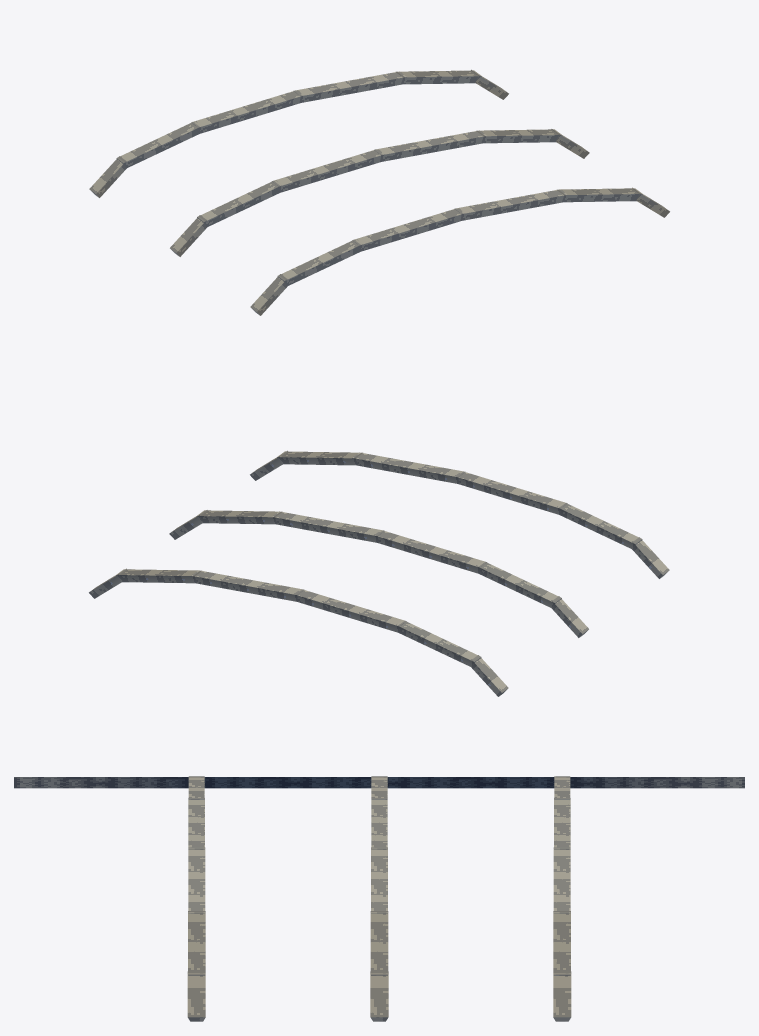
The model's file is cst.ceiling__vault.glb.
3 renders of one model, top to bottom at view 1: azimuth 30°, elevation 25°; view 2: azimuth 150°, elevation 25°; view 3: azimuth 270°, elevation 25°, orthographic. The views are drawn at different scales.
Parts seen in each view (by area): view 1: kit_ribs; view 2: kit_ribs; view 3: kit_ribs, kit_shell_ceiling.
Boxes of the visible parts, bbox=[...] form: kit_ribs: bbox=[89, 69, 669, 315]; kit_ribs: bbox=[89, 450, 669, 696]; kit_ribs: bbox=[187, 776, 571, 1021]; kit_shell_ceiling: bbox=[14, 777, 744, 788].
Bounding box in the file's own units: 11.1 × 1.39 × 15.
2 materials, 2 textured.
